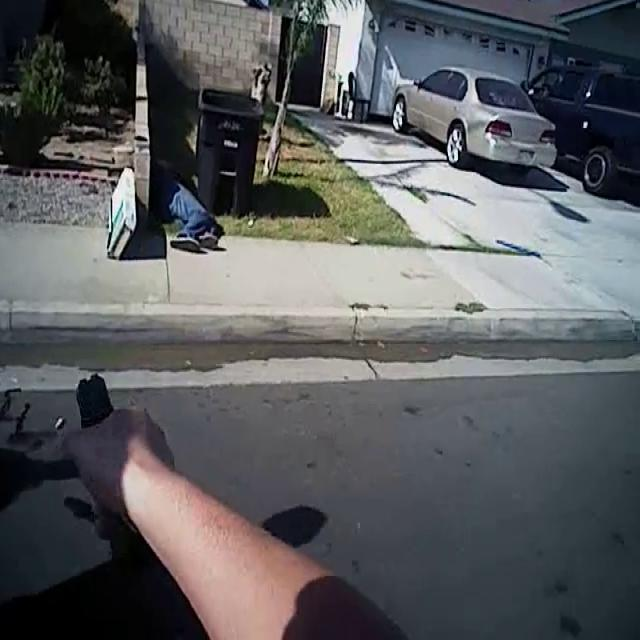gun: (50, 348, 154, 554)
